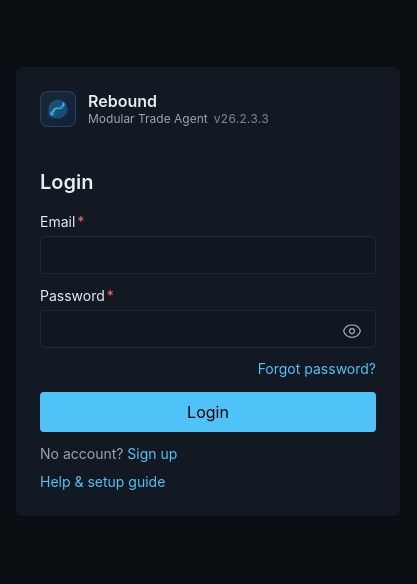
Test: LoginPage › shows pre-lockout warning with invalid credentials after repeated failures
Type "user@example.com" into the field labelled "Email*" at x=208, y=254, box [40, 236, 376, 274]
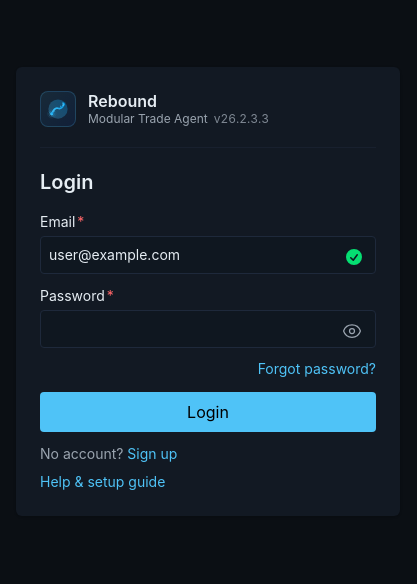
Type "wrong" into the password field labelled "Password*" at x=208, y=328, box [40, 310, 376, 348]
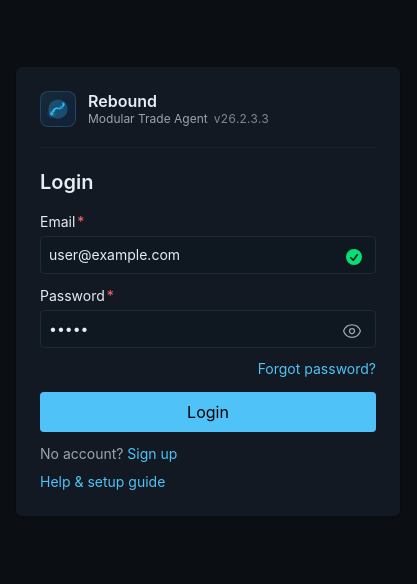
Click the button "Login" at x=208, y=412, box [40, 392, 376, 432]
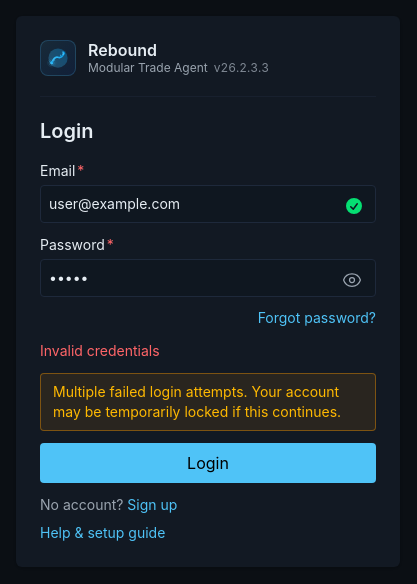
Now the message "Invalid credentials" is shown, box [40, 342, 160, 358]
Now the text "temporarily locked" is shown, box [53, 382, 341, 420]
